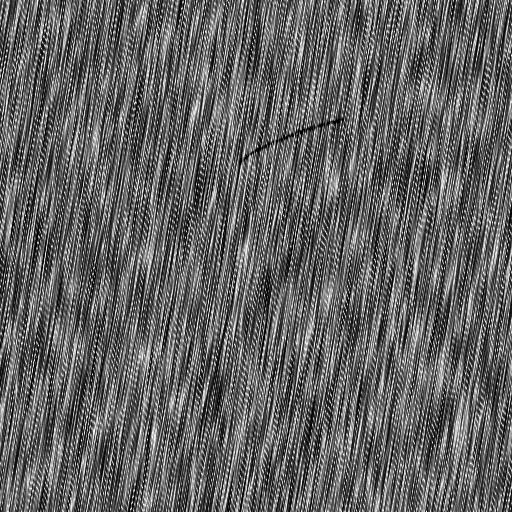DefectTypeC: (241, 117, 346, 166)
